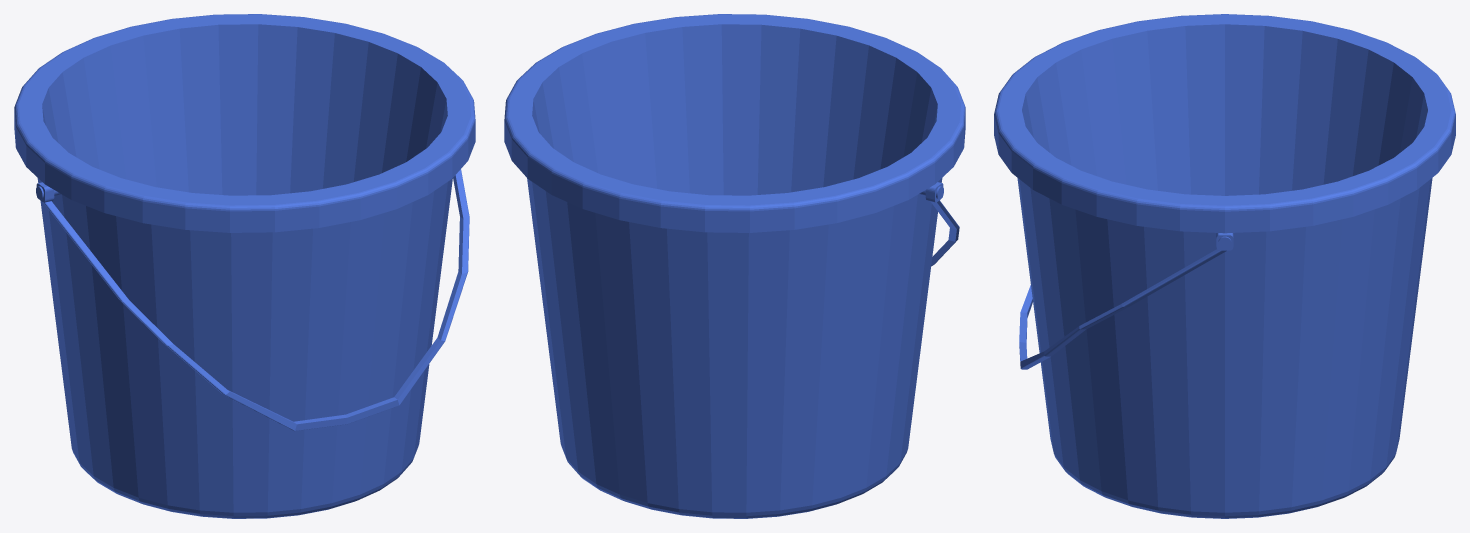
Rendered from Plastic toy bucket.fbx.
3 renders of one model, left to right at view 1: azimuth 30°, elevation 25°; view 2: azimuth 150°, elevation 25°; view 3: azimuth 270°, elevation 25°, orthographic.
Visible parts, largest first — view 1: Cylinder; view 2: Cylinder; view 3: Cylinder.
Boxes of the visible parts, x1,y1,x2,y2 form: Cylinder: (14,14,475,518); Cylinder: (504,14,965,518); Cylinder: (994,14,1455,518).
Size of the model in its own units: 274 by 216 by 267.
